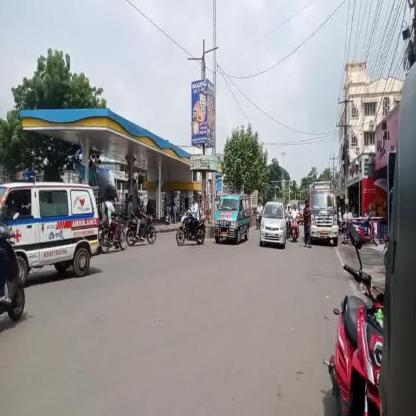priority: (1, 172, 105, 290), (215, 186, 255, 256), (306, 171, 342, 247)
